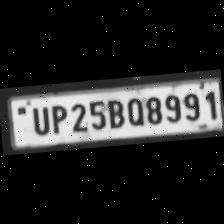1: (200, 86, 222, 120)
2: (66, 99, 88, 134)
5: (85, 96, 107, 131)
8: (142, 92, 164, 125)
9: (178, 88, 202, 122), (160, 90, 182, 124)
B: (104, 94, 126, 128)
P: (46, 102, 69, 134)
Q: (123, 92, 145, 125)
U: (27, 101, 52, 135)
